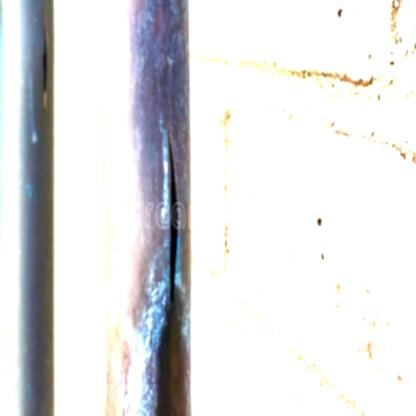burst: (144, 127, 193, 277)
